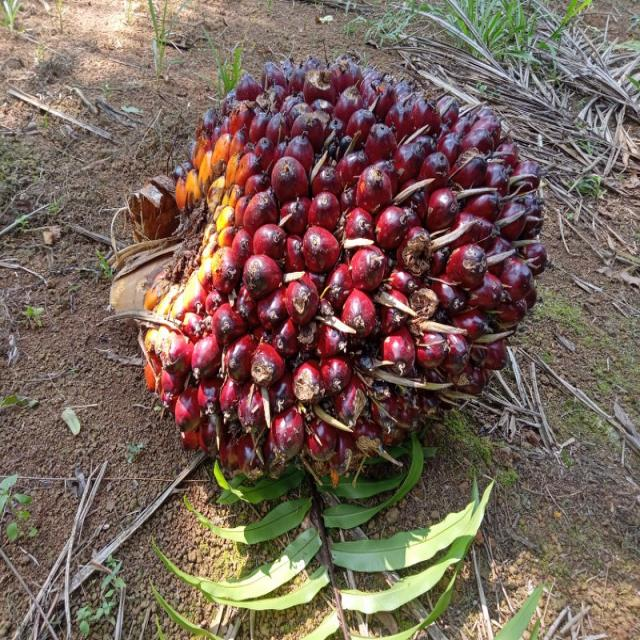fraksi 1: (86, 30, 575, 528)
